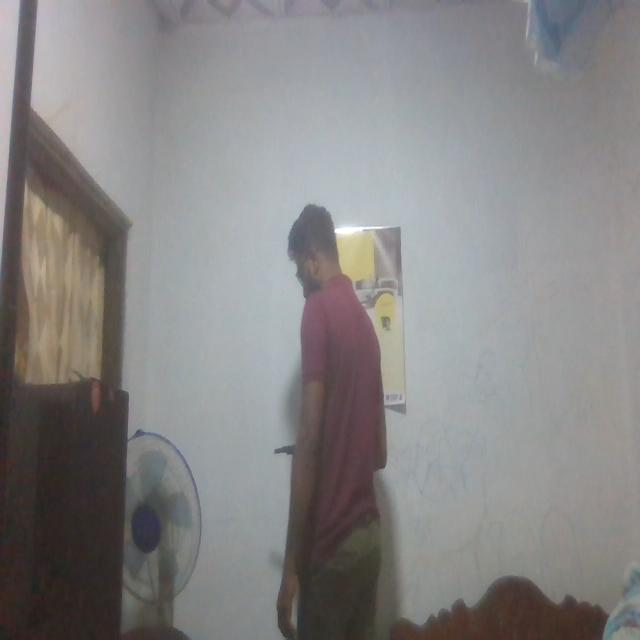Person: (280, 212, 390, 640)
